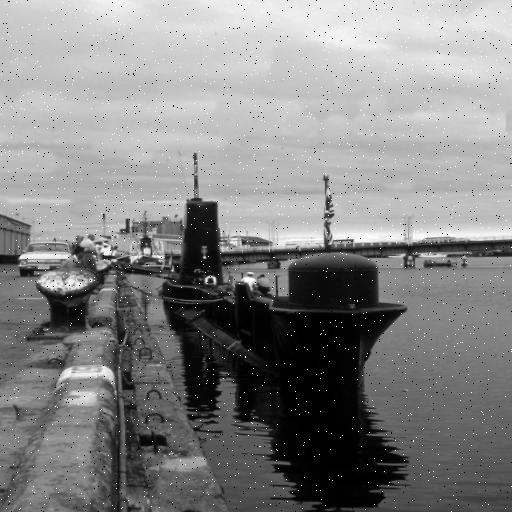submarine: (161, 194, 409, 397)
